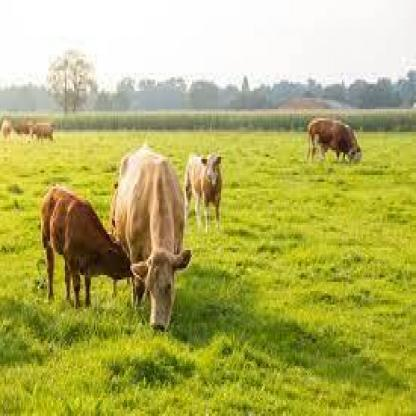cow: (111, 146, 193, 334), (39, 186, 135, 310), (185, 154, 223, 226), (306, 118, 363, 164), (28, 120, 55, 141)
